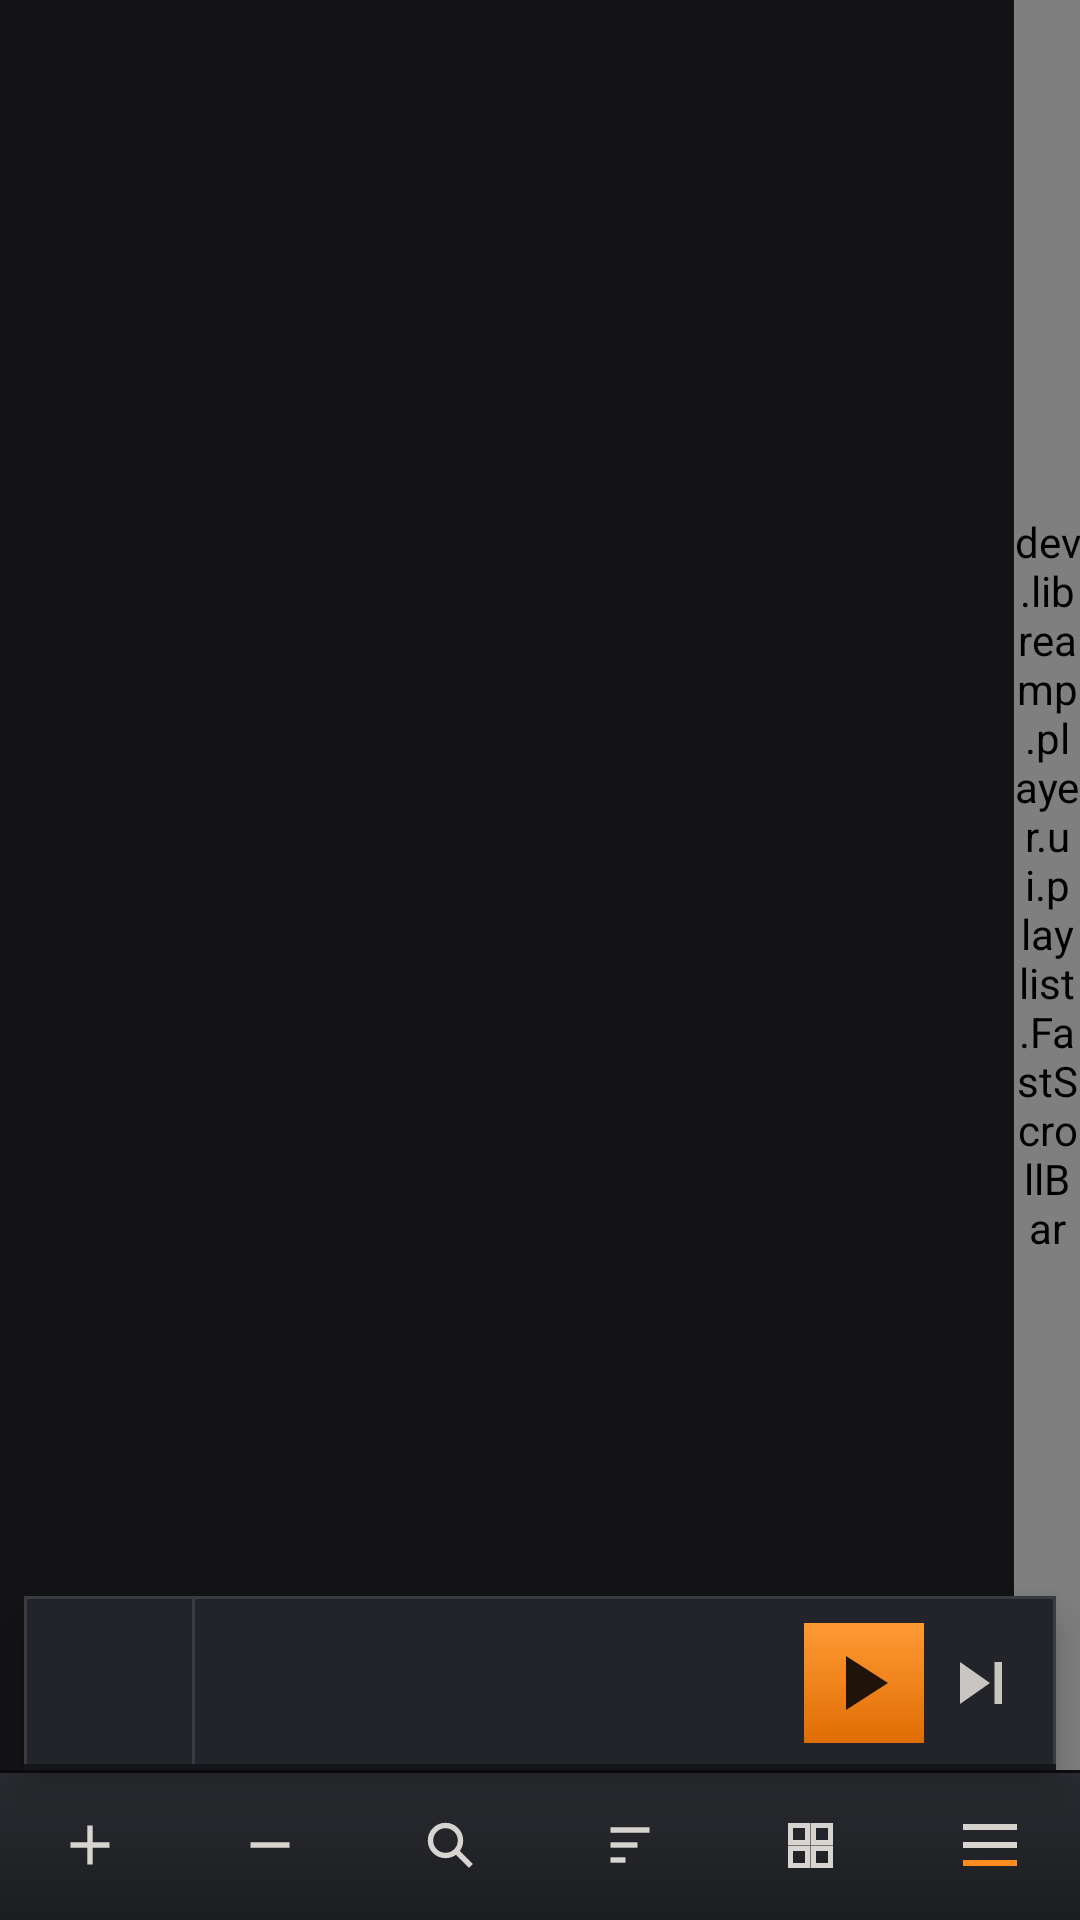

Icons on this 1080×1920 Android screen, each with its box as bbox=(x1, y1, x2, y2):
Next track: bbox=(960, 1662, 1002, 1704)
Search: bbox=(427, 1822, 473, 1868)
